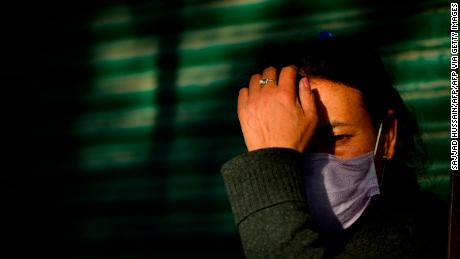with_mask: (267, 58, 401, 234)
